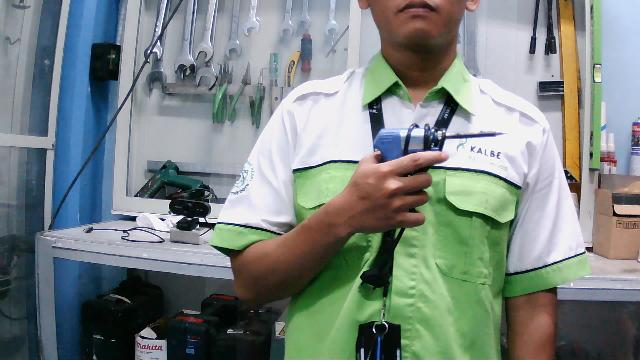solder_electrical: (364, 117, 511, 198)
